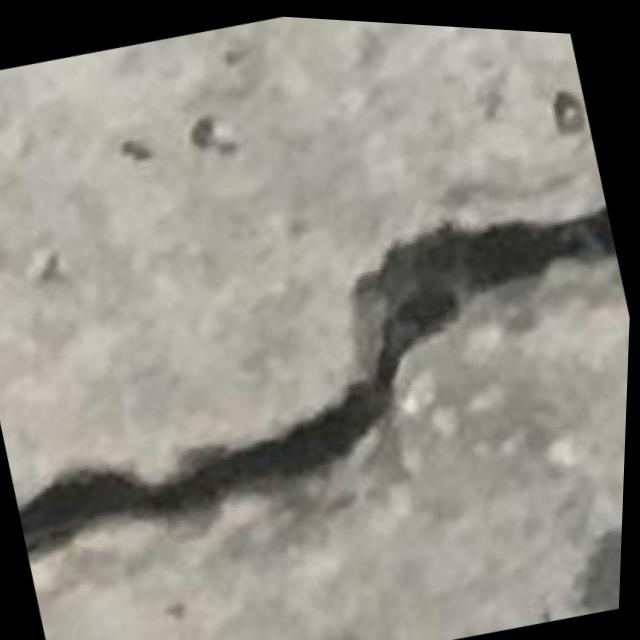Crack: (0, 126, 636, 634)
